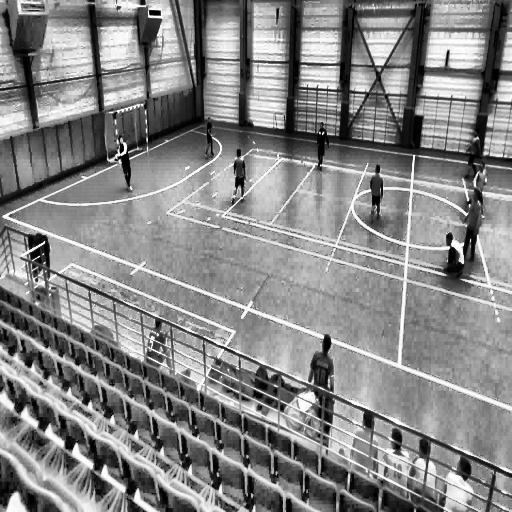ball: (114, 151, 120, 163)
player: (460, 192, 483, 264), (442, 230, 466, 286), (231, 146, 248, 206), (462, 126, 481, 179), (369, 161, 384, 224), (118, 135, 134, 193), (204, 118, 218, 160), (317, 124, 329, 171)
